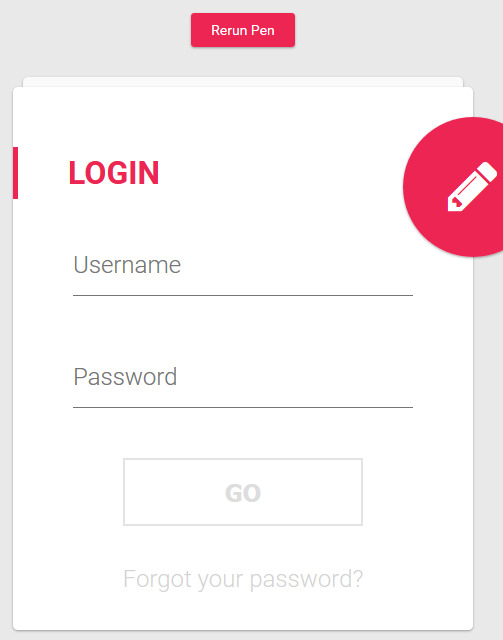button: (122, 456, 364, 527)
field_line: (68, 252, 414, 297), (73, 365, 416, 410)
